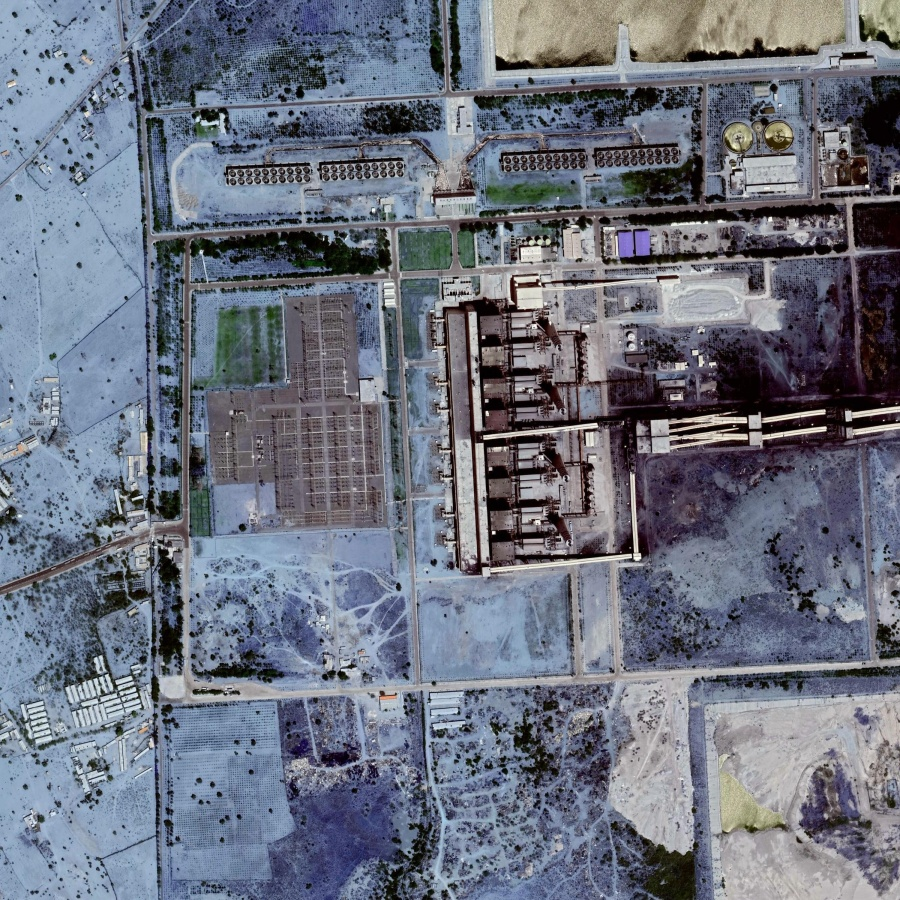PowerPlant: (438, 279, 637, 564)
